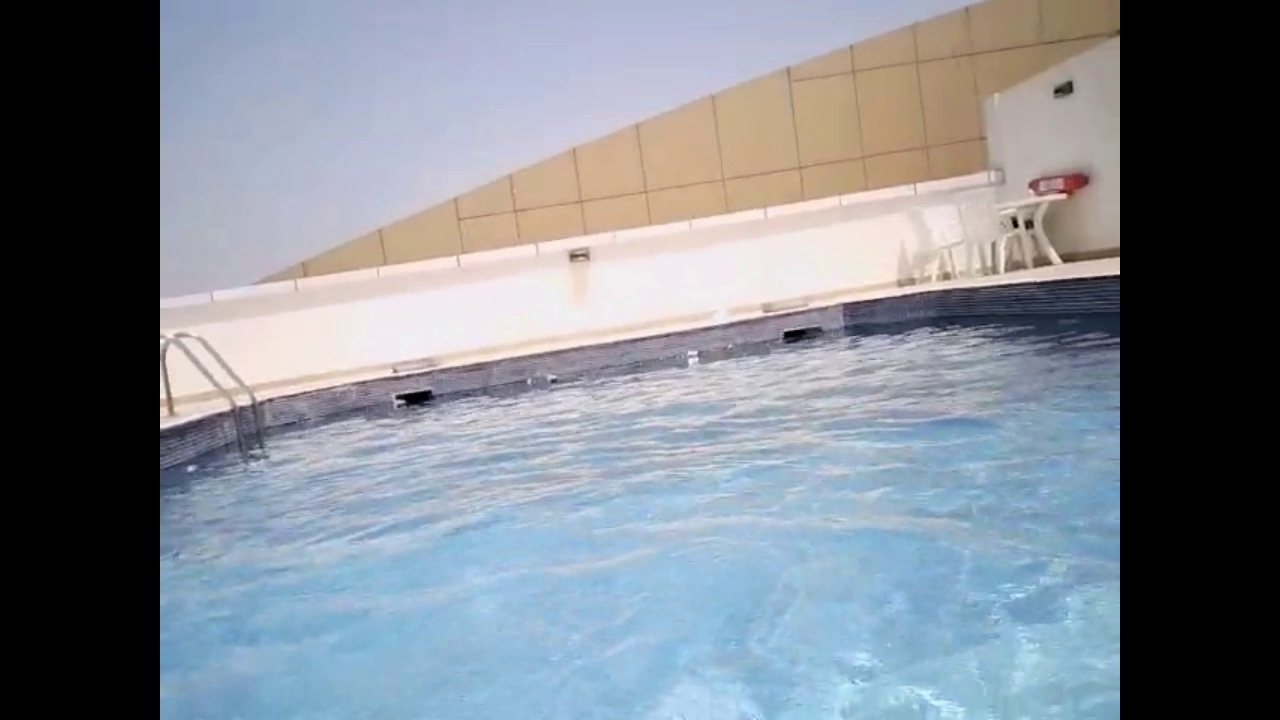debris: (538, 370, 563, 387), (721, 337, 739, 355), (388, 396, 405, 413), (682, 347, 702, 361), (522, 374, 536, 387)
